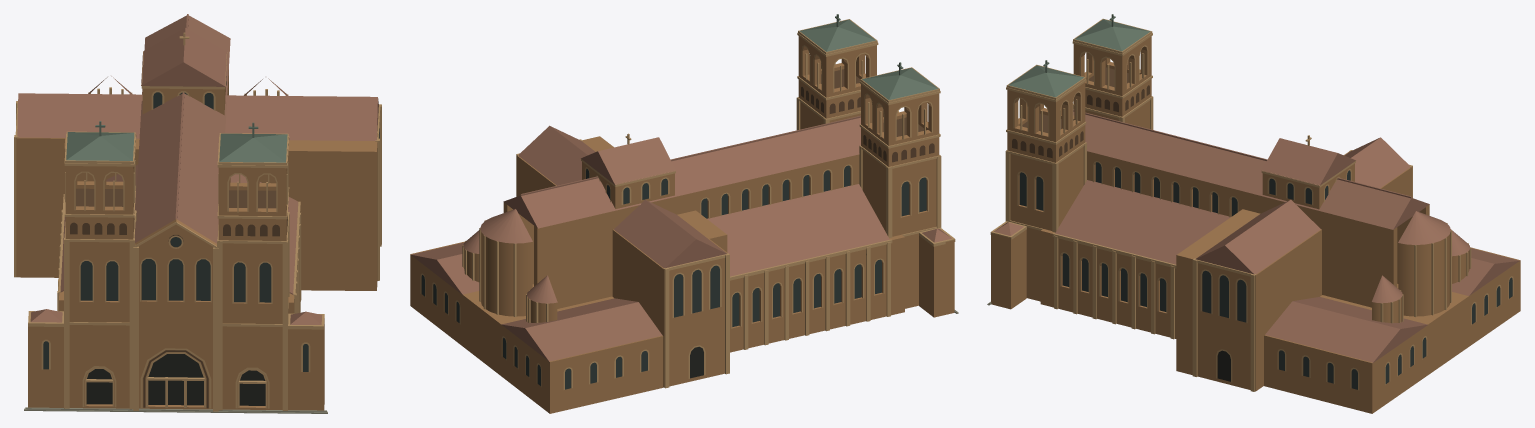
File: catedral-metropolitana-de-medellin-far.glb
The picture shows the model from 3 angles, left to right: view 1: azimuth 30°, elevation 25°; view 2: azimuth 150°, elevation 25°; view 3: azimuth 270°, elevation 25°; orthographic projection. The views are drawn at different scales.
Visible parts, largest first — view 1: catedral-metropolitana-de-medellin-0-brick, catedral-metropolitana-de-medellin-0-roof, catedral-metropolitana-de-medellin-0-trim, catedral-metropolitana-de-medellin-0-glass, catedral-metropolitana-de-medellin-0-copper, catedral-metropolitana-de-medellin-0-door, catedral-metropolitana-de-medellin-0-recess, catedral-metropolitana-de-medellin-0-stone; view 2: catedral-metropolitana-de-medellin-0-brick, catedral-metropolitana-de-medellin-0-roof, catedral-metropolitana-de-medellin-0-trim, catedral-metropolitana-de-medellin-0-glass, catedral-metropolitana-de-medellin-0-copper, catedral-metropolitana-de-medellin-0-recess; view 3: catedral-metropolitana-de-medellin-0-brick, catedral-metropolitana-de-medellin-0-roof, catedral-metropolitana-de-medellin-0-trim, catedral-metropolitana-de-medellin-0-glass, catedral-metropolitana-de-medellin-0-copper, catedral-metropolitana-de-medellin-0-recess.
Boxes of the visible parts, box(x1,y1,x2,y2) form: catedral-metropolitana-de-medellin-0-brick: box(16, 70, 379, 410); catedral-metropolitana-de-medellin-0-roof: box(17, 14, 378, 324); catedral-metropolitana-de-medellin-0-trim: box(14, 32, 381, 411); catedral-metropolitana-de-medellin-0-glass: box(43, 76, 379, 371); catedral-metropolitana-de-medellin-0-copper: box(66, 121, 287, 162); catedral-metropolitana-de-medellin-0-door: box(86, 354, 265, 405); catedral-metropolitana-de-medellin-0-recess: box(70, 188, 287, 408); catedral-metropolitana-de-medellin-0-stone: box(24, 407, 327, 413); catedral-metropolitana-de-medellin-0-brick: box(410, 36, 954, 413); catedral-metropolitana-de-medellin-0-roof: box(411, 115, 951, 362); catedral-metropolitana-de-medellin-0-trim: box(420, 19, 955, 389); catedral-metropolitana-de-medellin-0-glass: box(421, 165, 926, 389); catedral-metropolitana-de-medellin-0-copper: box(799, 14, 938, 100); catedral-metropolitana-de-medellin-0-recess: box(801, 69, 934, 162); catedral-metropolitana-de-medellin-0-brick: box(991, 36, 1520, 413); catedral-metropolitana-de-medellin-0-roof: box(994, 109, 1520, 363); catedral-metropolitana-de-medellin-0-trim: box(990, 18, 1513, 391); catedral-metropolitana-de-medellin-0-glass: box(1019, 162, 1512, 389); catedral-metropolitana-de-medellin-0-copper: box(1008, 14, 1150, 97); catedral-metropolitana-de-medellin-0-recess: box(1012, 67, 1149, 158).
Bounding box in the file's own units: 100 × 53.2 × 113.
